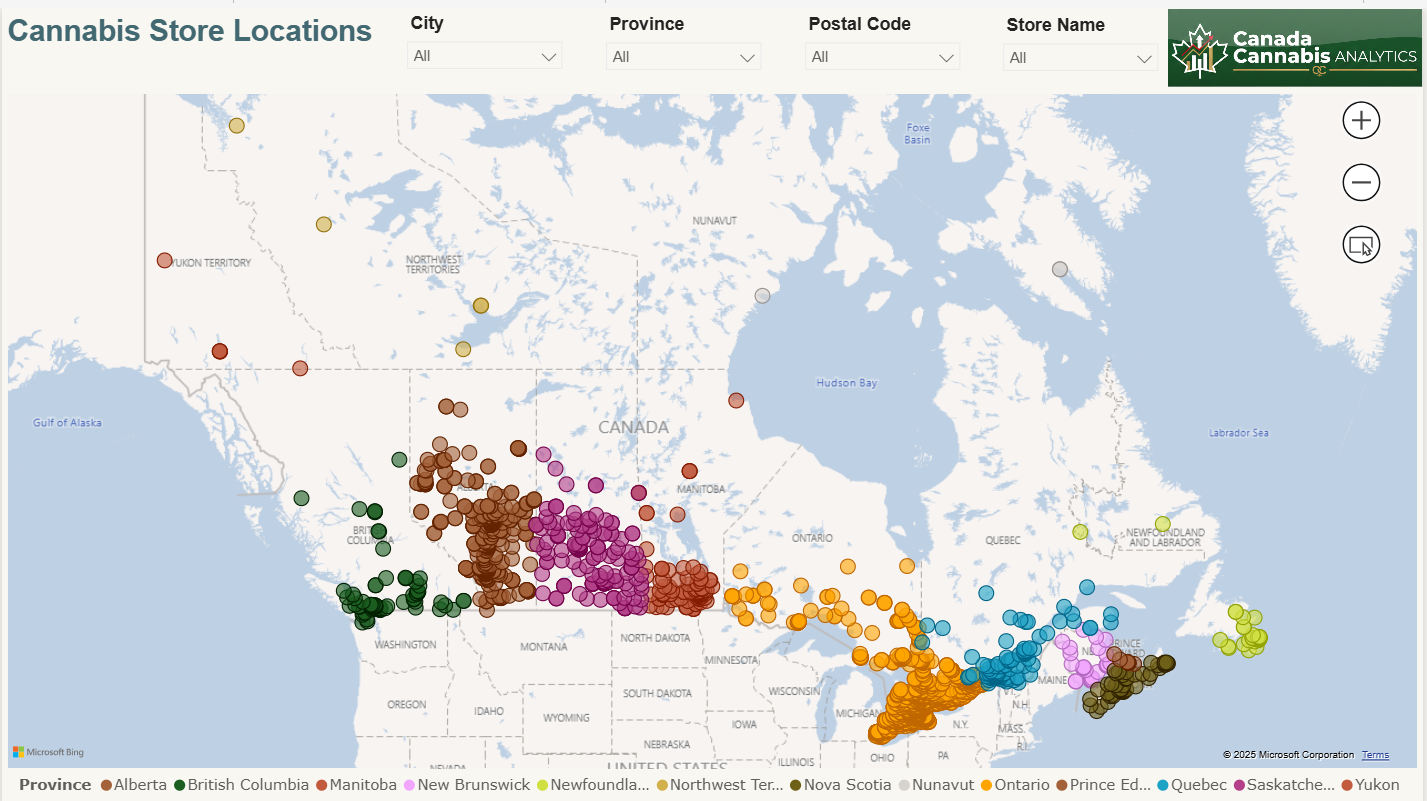

Layout of this report page (visuals, bound fields, positions):
{"tool":"powerbi","page":{"name":"Cannabis Store Locations","canvas":[1280,720],"ordinal":1},"visuals":[{"type":"map","title":"Cannabis Store Locations","fields":{"Y":["Cannabis_Store_Locations.Latitude"],"X":["Avg(Cannabis_Store_Locations.Longitude)"],"Series":["Cannabis_Store_Locations.FullProvinceName"]},"box":[0,72,1280,647.8],"z":0},{"type":"slicer","fields":{"Values":["Cannabis_Store_Locations.FullProvinceName"]},"box":[534.4,1,160,71],"z":1000},{"type":"slicer","fields":{"Values":["Cannabis_Store_Locations.PostalCode"]},"box":[713.3,1,160,71],"z":2000},{"type":"slicer","fields":{"Values":["Cannabis_Store_Locations.StoreName"]},"box":[892.2,1.9,160,71],"z":3000},{"type":"slicer","fields":{"Values":["Cannabis_Store_Locations.City"]},"box":[355,0,160.5,71],"z":4000},{"type":"textbox","box":[0,1,340.4,43.8],"z":5000},{"type":"image","box":[1050.7,1,229.3,70],"z":5001}]}

Visuals, with their boxes in screenshot pixels (x1, y1, x2, y2), scaled from the page's 1280x720 canvas onto the 1427x801 screenshot:
"Cannabis Store Locations" map: x1=0 y1=80 x2=1426 y2=800
slicer - Cannabis_Store_Locations.FullProvinceName: x1=596 y1=1 x2=774 y2=80
slicer - Cannabis_Store_Locations.PostalCode: x1=795 y1=1 x2=974 y2=80
slicer - Cannabis_Store_Locations.StoreName: x1=995 y1=2 x2=1173 y2=81
slicer - Cannabis_Store_Locations.City: x1=396 y1=0 x2=575 y2=79
textbox: x1=0 y1=1 x2=379 y2=50
image: x1=1171 y1=1 x2=1426 y2=79
